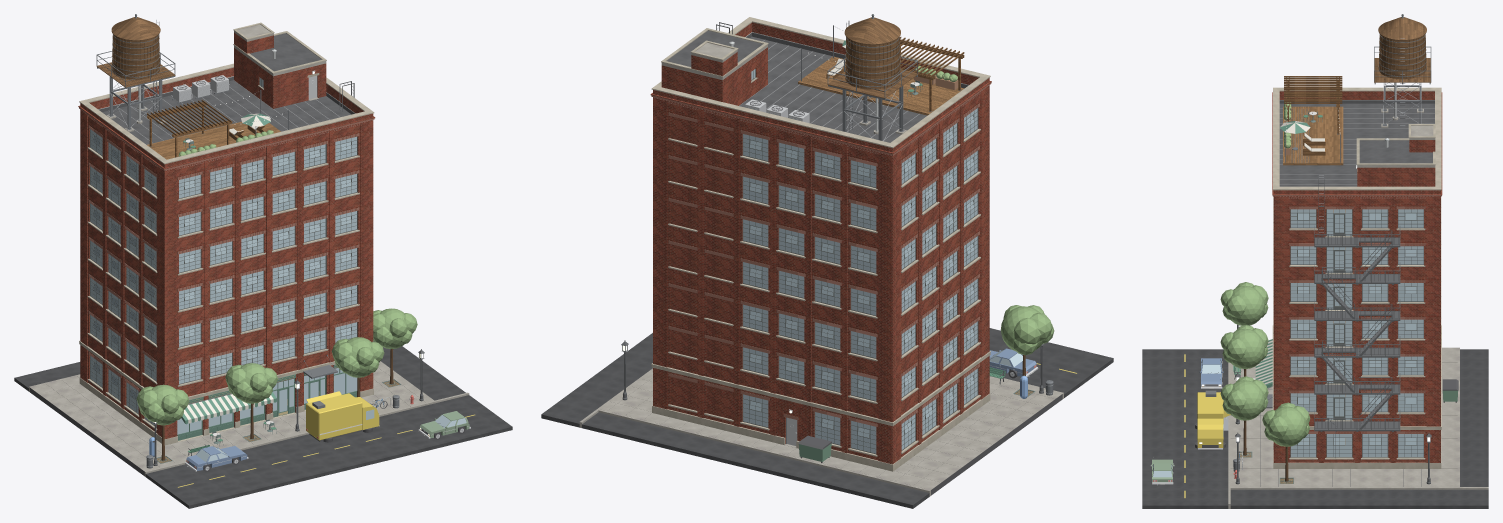
Rendered from building_assembled.glb.
The picture shows the model from 3 angles, left to right: view 1: azimuth 30°, elevation 25°; view 2: azimuth 150°, elevation 25°; view 3: azimuth 270°, elevation 25°; orthographic projection. The views are drawn at different scales.
Visible parts, largest first — view 1: geometry_3, geometry_0, geometry_33, geometry_57, geometry_65, geometry_41, geometry_49, geometry_72, geometry_109, geometry_25, geometry_35, geometry_43 (+46 smaller); view 2: geometry_3, geometry_0, geometry_49, geometry_25, geometry_33, geometry_65, geometry_57, geometry_41, geometry_11, geometry_72, geometry_109, geometry_14 (+40 smaller); view 3: geometry_3, geometry_0, geometry_109, geometry_72, geometry_65, geometry_1323, geometry_49, geometry_33, geometry_41, geometry_57, geometry_1328, geometry_74 (+39 smaller).
Boxes of the visible parts, box(x1,y1,x2,y2) form: geometry_3: box(14, 341, 512, 508); geometry_0: box(29, 361, 469, 476); geometry_33: box(80, 267, 373, 365); geometry_57: box(80, 156, 373, 254); geometry_65: box(80, 118, 373, 216); geometry_41: box(80, 230, 373, 328); geometry_49: box(80, 193, 373, 291); geometry_72: box(78, 67, 375, 179); geometry_109: box(102, 80, 351, 144); geometry_25: box(80, 304, 373, 396); geometry_35: box(90, 278, 356, 346); geometry_43: box(90, 241, 356, 309); geometry_3: box(541, 328, 1113, 508); geometry_0: box(579, 368, 1063, 496); geometry_49: box(653, 181, 989, 294); geometry_25: box(653, 309, 989, 422); geometry_33: box(653, 266, 989, 379); geometry_65: box(653, 95, 989, 208); geometry_57: box(653, 138, 989, 251); geometry_41: box(653, 223, 989, 336); geometry_11: box(653, 356, 989, 464); geometry_72: box(650, 22, 991, 166); geometry_109: box(739, 36, 926, 142); geometry_14: box(651, 351, 990, 471); geometry_3: box(1142, 349, 1488, 508); geometry_0: box(1228, 347, 1488, 508); geometry_109: box(1279, 103, 1434, 186); geometry_72: box(1272, 91, 1442, 205); geometry_65: box(1273, 205, 1440, 242); geometry_1323: box(1374, 17, 1431, 82); geometry_49: box(1273, 279, 1440, 316); geometry_33: box(1273, 352, 1440, 389); geometry_41: box(1273, 316, 1440, 352); geometry_57: box(1273, 242, 1440, 279); geometry_1328: box(1283, 106, 1343, 165); geometry_74: box(1273, 87, 1441, 190).
Size of the model in its own units: 31 by 34.77 by 29.
86 materials, 17 textured.
